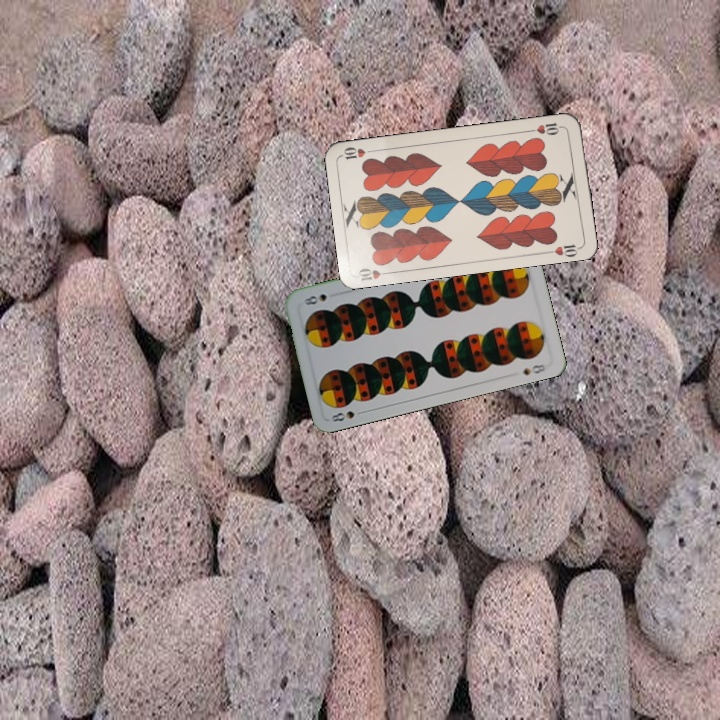H10: (526, 118, 566, 138), (354, 264, 395, 283)
S8: (327, 407, 368, 424)
